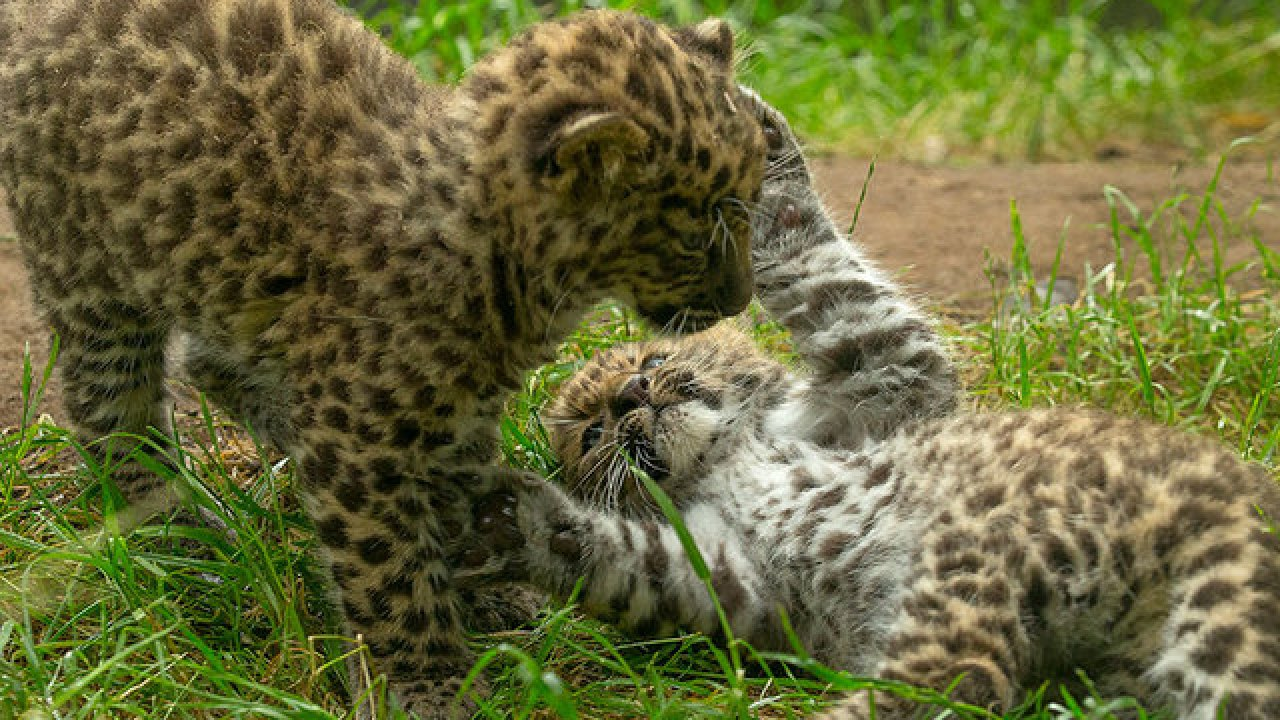amur_leopard: (65, 4, 790, 348), (526, 352, 1252, 678)
